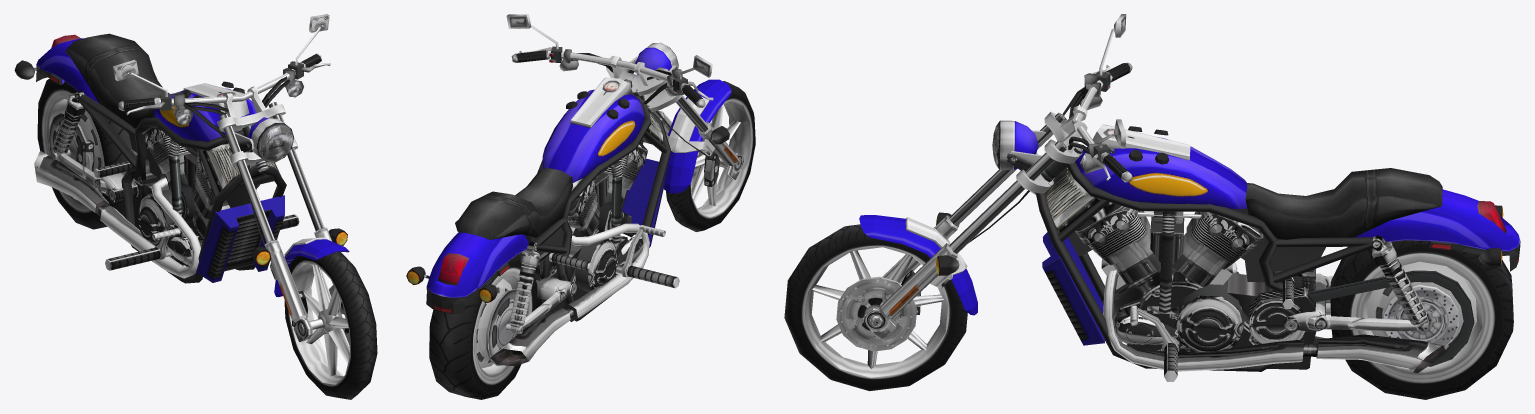
Rendered from HarleyV3.FBX.
3 views of the same model, side by side, from view 1: azimuth 30°, elevation 25°; view 2: azimuth 150°, elevation 25°; view 3: azimuth 270°, elevation 25° (orthographic). The views are drawn at different scales.
Visible parts, largest first — view 1: Harley, Steer, Wheel_F, Wheel_R, Axle_F, ShockAbsorber_R, Axle_R; view 2: Harley, Wheel_R, Steer, Wheel_F, Axle_F, ShockAbsorber_R, Axle_R, Mirror; view 3: Harley, Wheel_R, Wheel_F, Steer, Axle_F, Axle_R, ShockAbsorber_R.
Boxes of the visible parts, box(x1,y1,x2,y2) form: Harley: box(14, 33, 299, 283); Steer: box(113, 14, 330, 248); Wheel_F: box(284, 251, 377, 399); Wheel_R: box(37, 78, 131, 229); Axle_F: box(252, 227, 349, 341); ShockAbsorber_R: box(52, 90, 85, 157); Axle_R: box(58, 140, 106, 191); Harley: box(406, 77, 679, 366); Wheel_R: box(429, 253, 537, 399); Steer: box(506, 14, 713, 148); Wheel_F: box(666, 81, 755, 231); Axle_F: box(659, 79, 743, 193); ShockAbsorber_R: box(510, 242, 539, 333); Axle_R: box(522, 289, 566, 329); Mirror: box(508, 16, 710, 77); Harley: box(1031, 124, 1520, 381); Wheel_R: box(1330, 240, 1513, 399); Wheel_F: box(784, 224, 967, 391); Steer: box(949, 14, 1132, 253); Axle_F: box(859, 212, 977, 338); Axle_R: box(1307, 270, 1474, 366); ShockAbsorber_R: box(1372, 235, 1428, 331).
Bounding box in the file's own units: 134 × 166 × 346.
